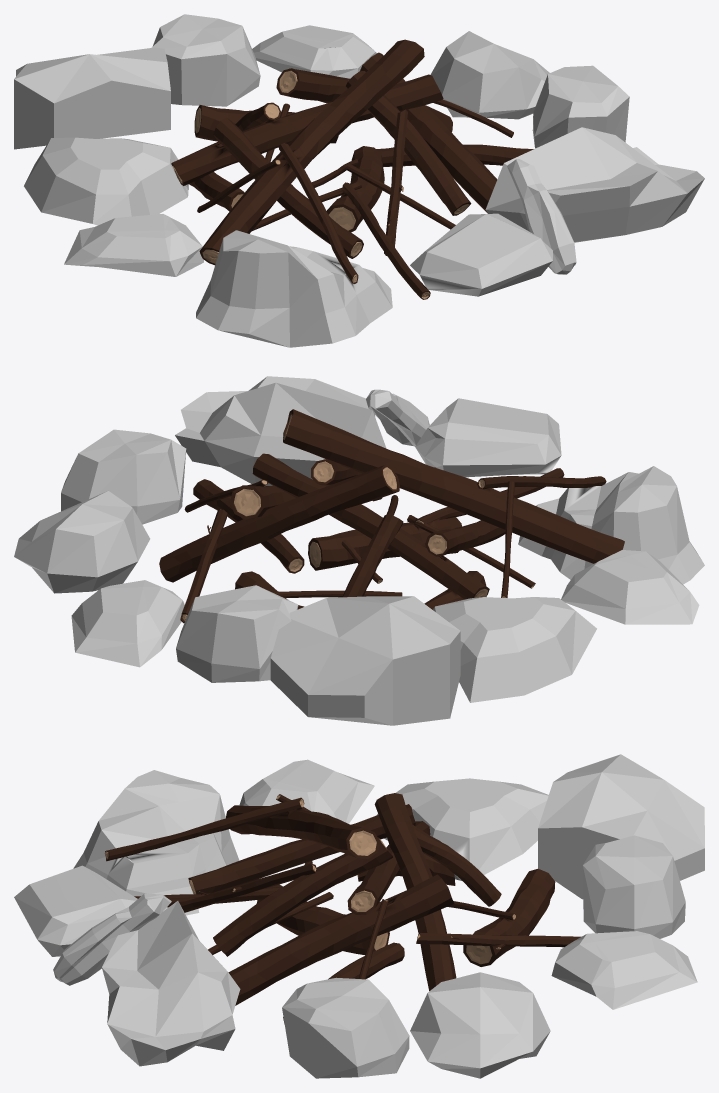
File: CampFire.fbx
3 views of the same model, one above another, from view 1: azimuth 30°, elevation 25°; view 2: azimuth 150°, elevation 25°; view 3: azimuth 270°, elevation 25° (orthographic). The views are drawn at different scales.
Visible parts, largest first — view 1: Fire; view 2: Fire; view 3: Fire.
Part boxes in pixels (box(x1,y1,x2,y2)): Fire: box(14, 14, 704, 347); Fire: box(14, 376, 704, 725); Fire: box(14, 754, 704, 1078).
Size of the model in its own units: 0.5109 by 0.4979 by 0.1441.
